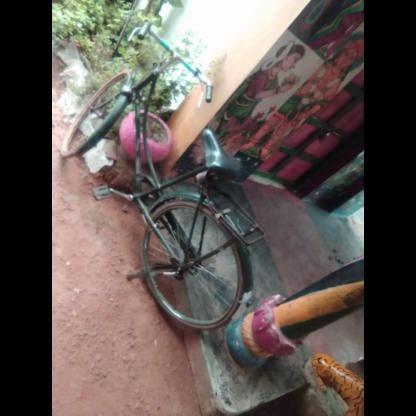Bicycle: (83, 52, 270, 346)
